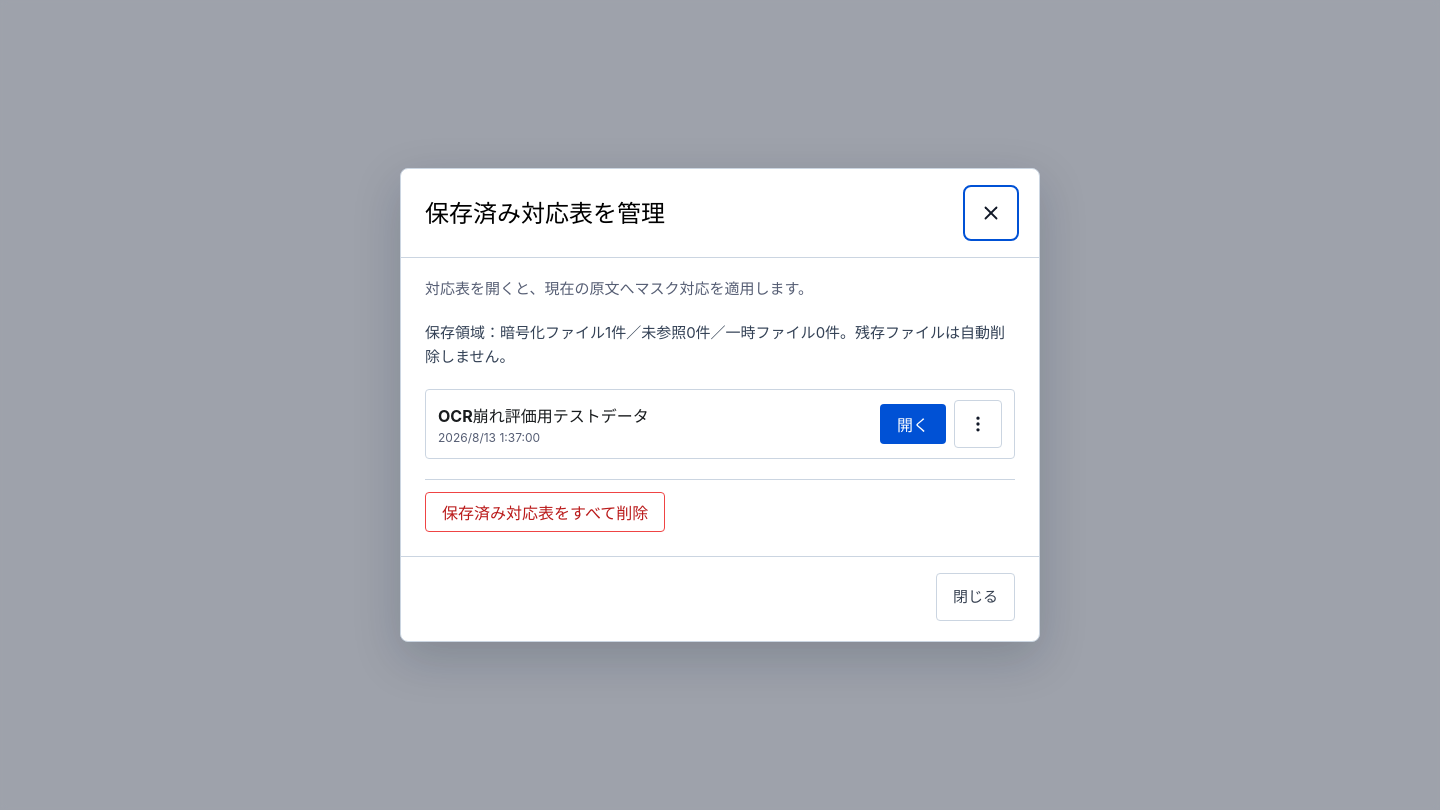
Test case: MaskMappingLibraryDialog › 個別削除は行のその他メニューから確認し、管理画面を空状態へ更新する
Click the 3rd button at (978,424), box 954,400 -> 1002,448
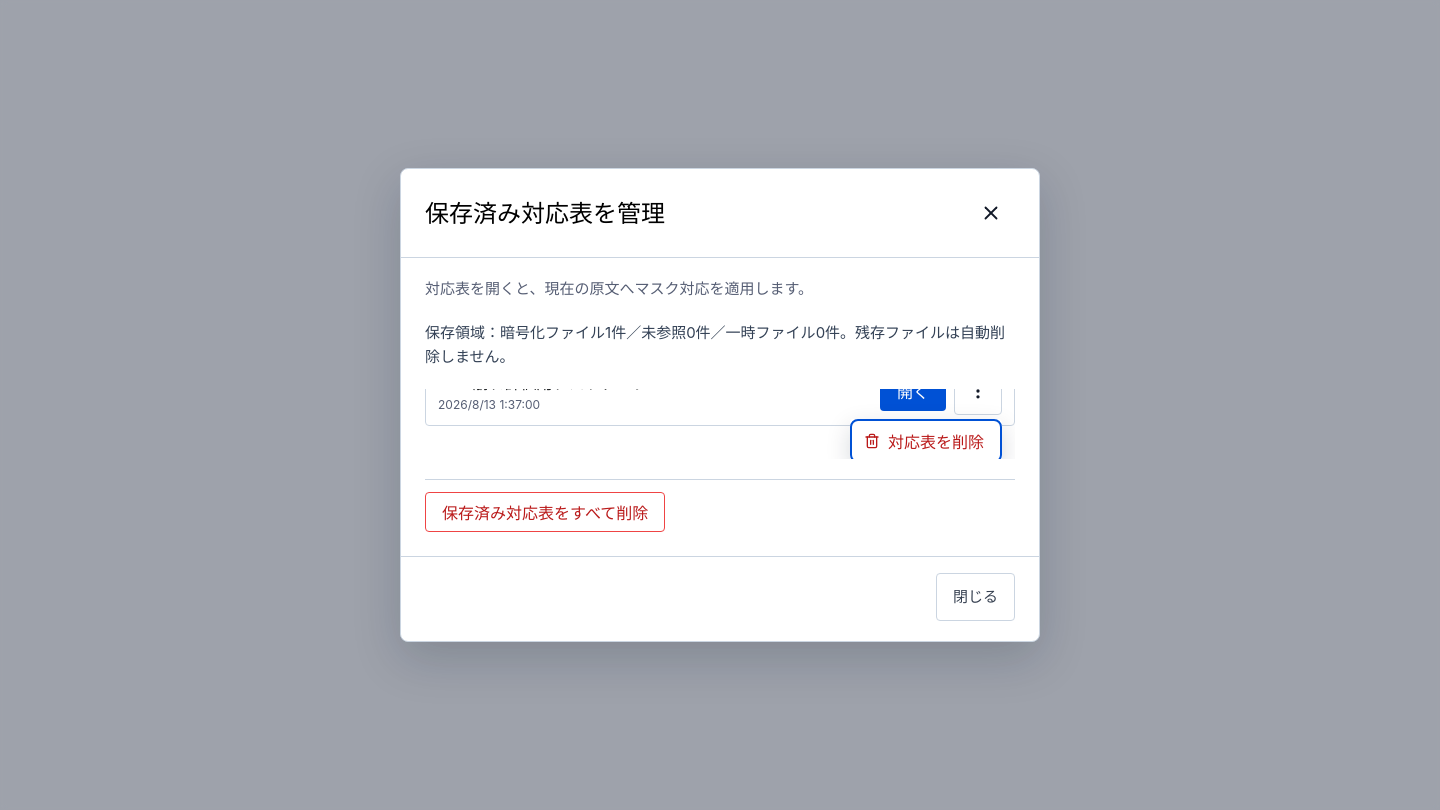
Click the menu item "対応表を削除" at (926,441), box 854,423 -> 998,459
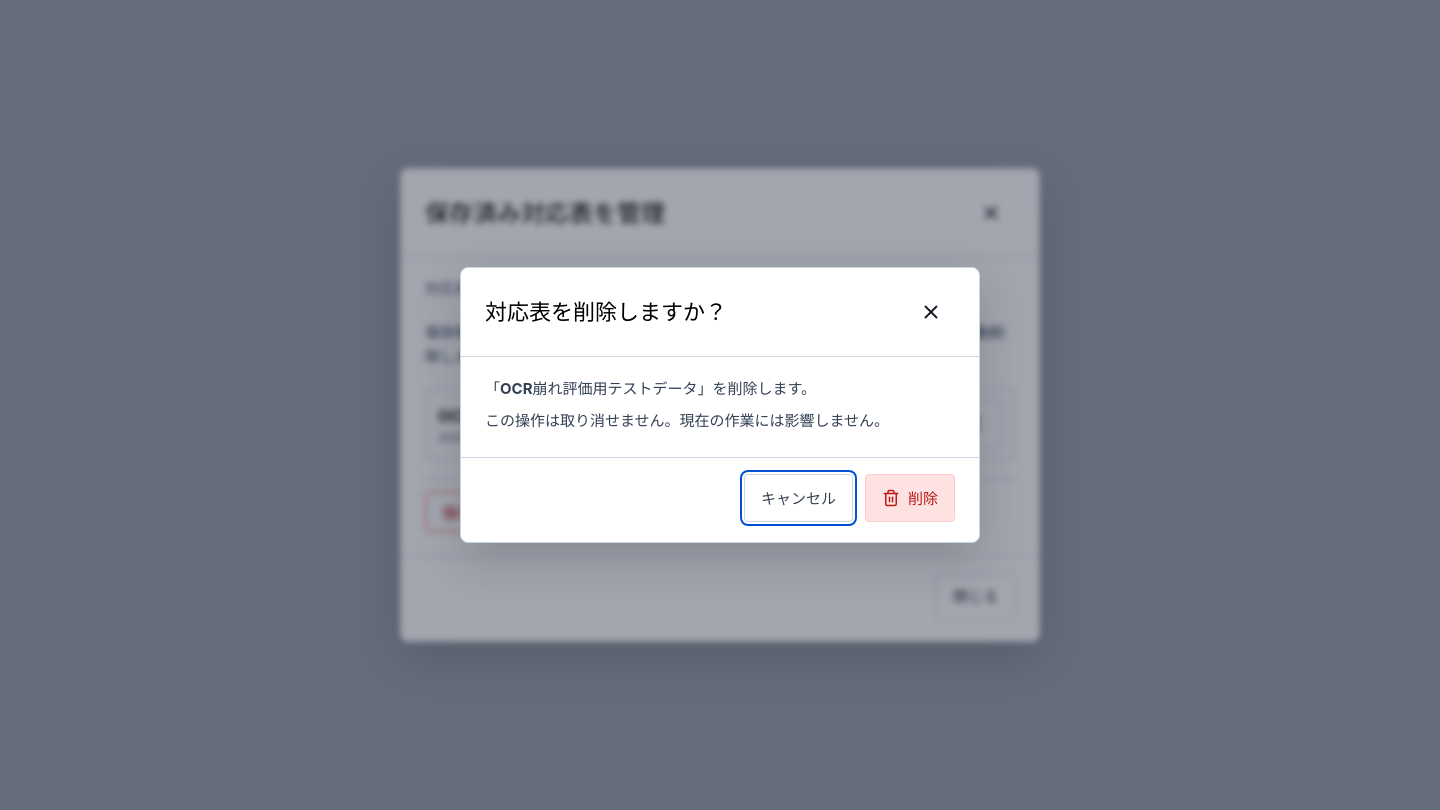
Now the heading "対応表を削除しますか？" is shown, box 485,297 -> 727,327
Now the text "この操作は取り消せません。現在の作業には影響しません。" is shown, box 485,409 -> 955,433
Click the button "削除" at (910,498), box 865,474 -> 955,522
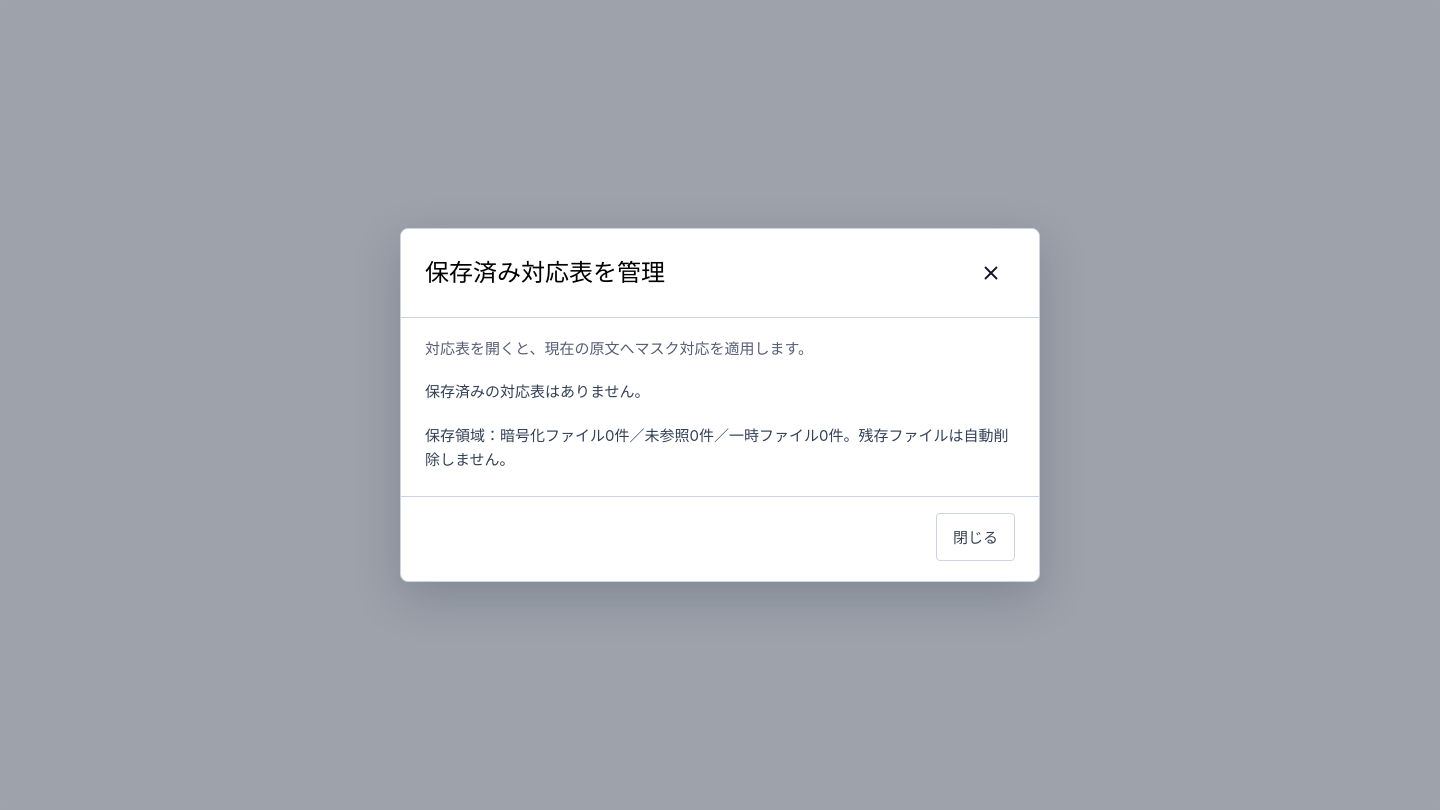
Now the text "保存済みの対応表はありません。" is shown, box 425,382 -> 650,401
Now the button "保存済み対応表をすべて削除" is gone
